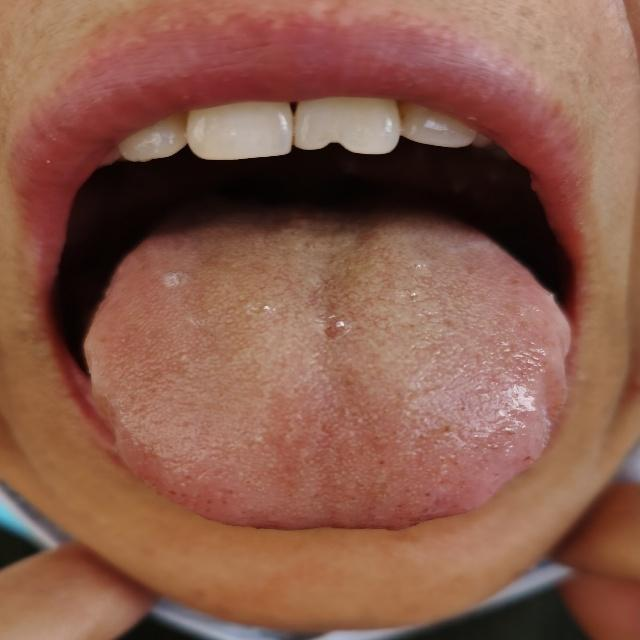baitaishe: (83, 218, 572, 530)
chihenshe: (84, 341, 123, 459), (539, 328, 573, 444)
